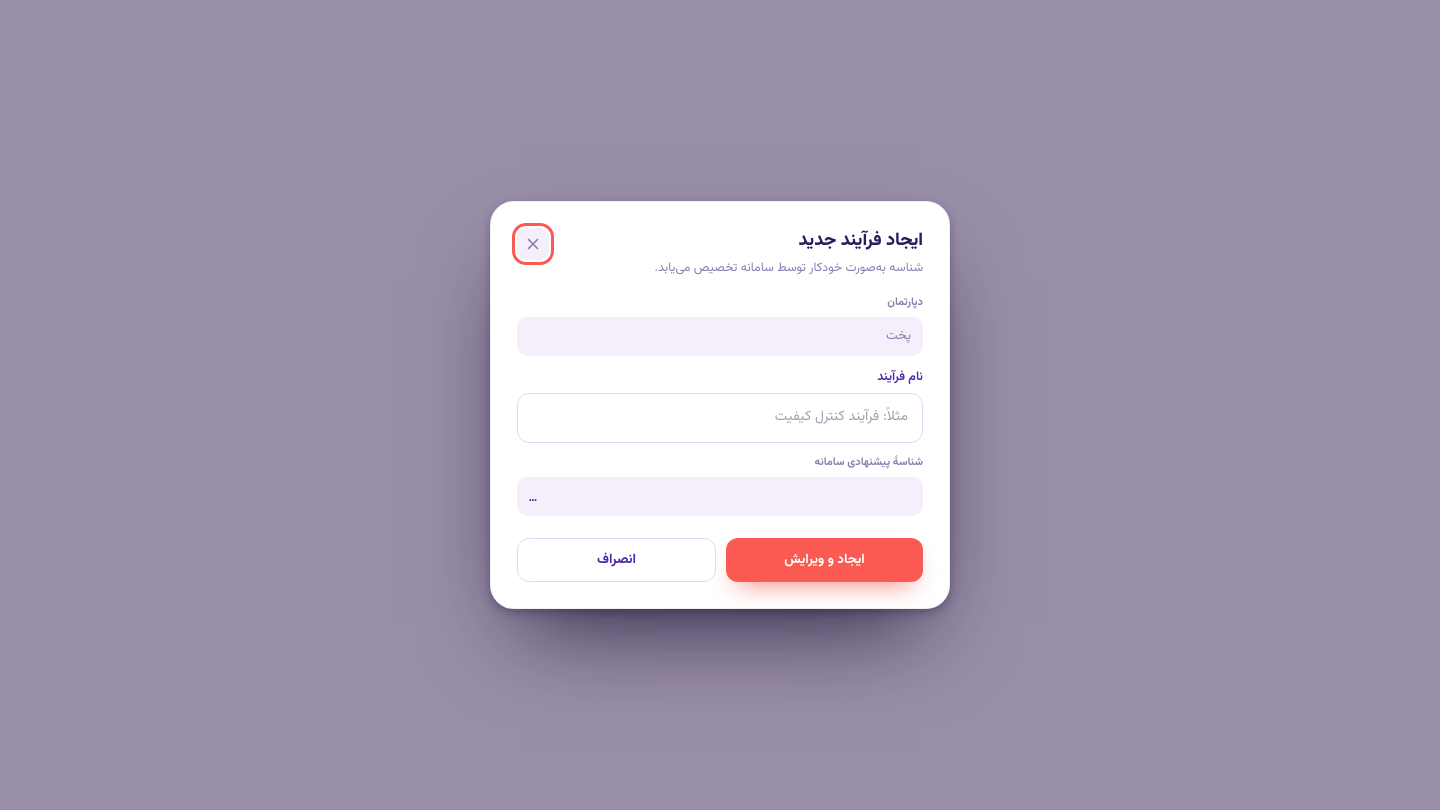
Test: CreateProcessModal — a slow create looks slow, not frozen › looks busy rather than unchanged while the create is in flight
Click the button "ایجاد و ویرایش": point(824, 560) [726,538,923,582]
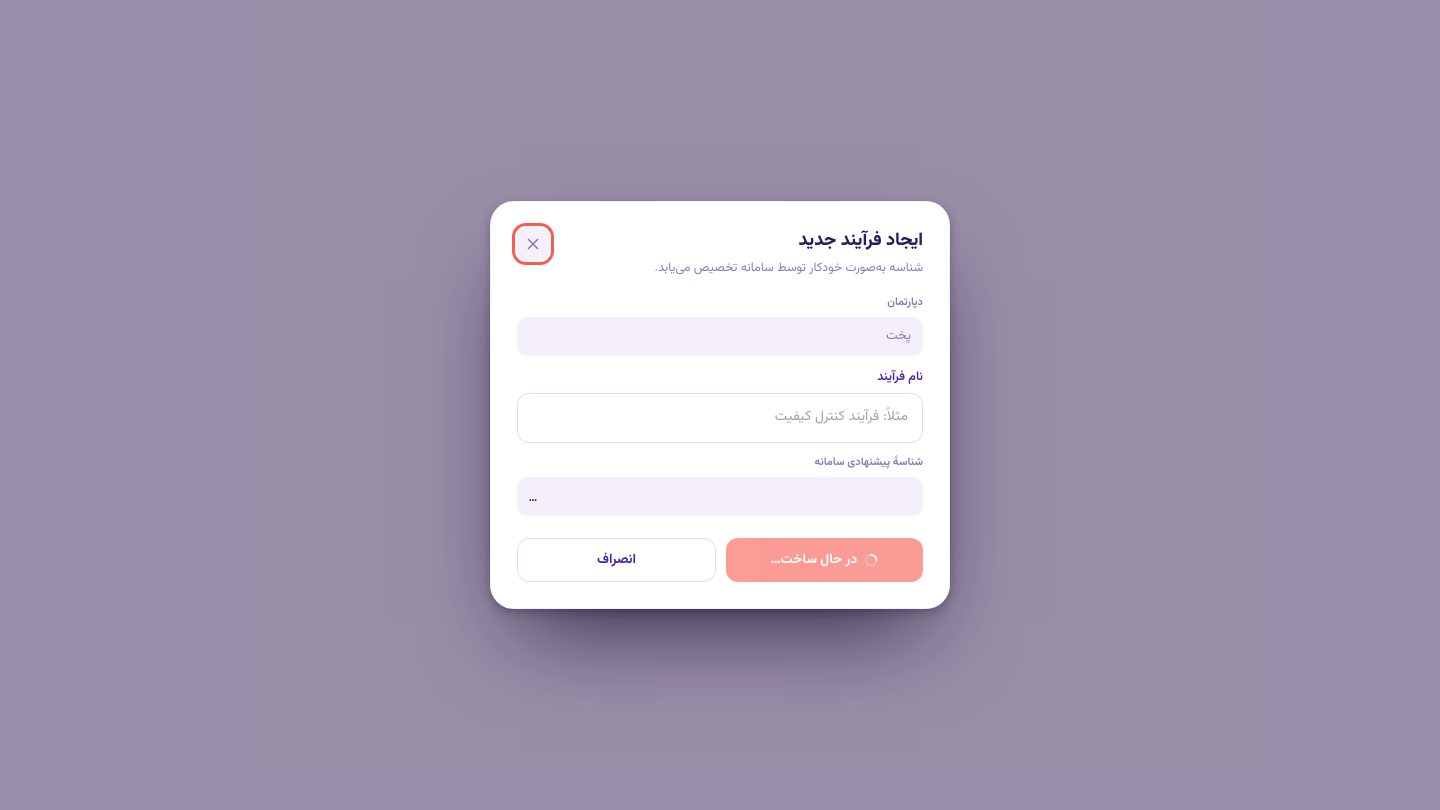
Expected: the button "در حال ساخت…" is disabled, [726,538,923,582]
Expected: the icon with test id "btn-spinner" is shown, [864,553,878,567]
